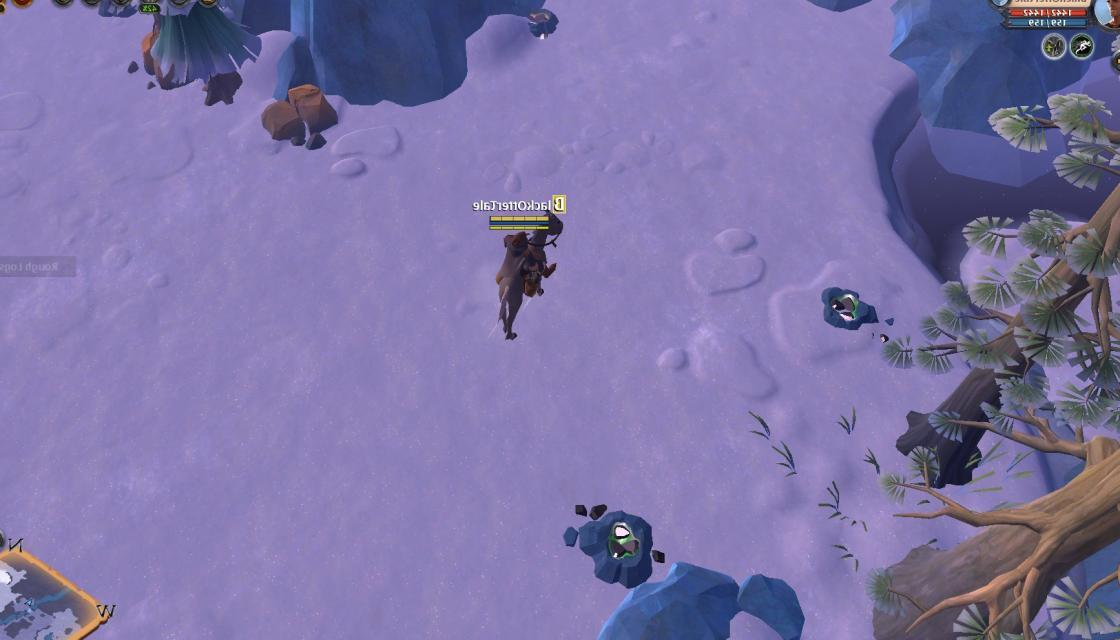limestone: (260, 82, 336, 144), (139, 22, 188, 91)
